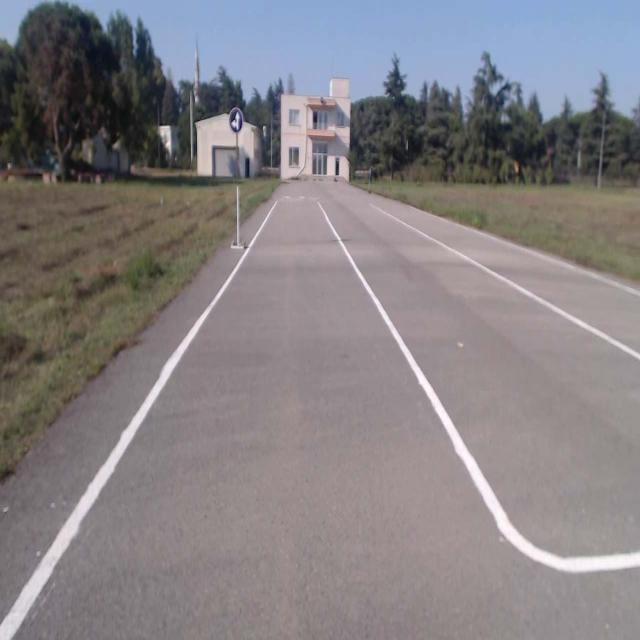ilerisol: (229, 108, 243, 134)
